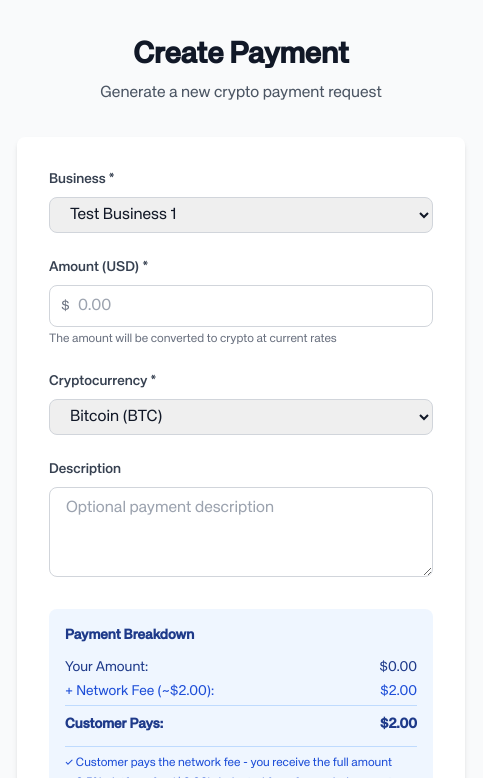
Test: CreatePaymentPage › Error Handling › should display error when payment creation fails
Expected: the dropdown labelled "Cryptocurrency *" is shown, [49, 399, 433, 435]
Type "100" into the number field labelled "Amount (USD) *".
click(241, 306); type("100")  # box [49, 285, 433, 327]
(page scrolled)
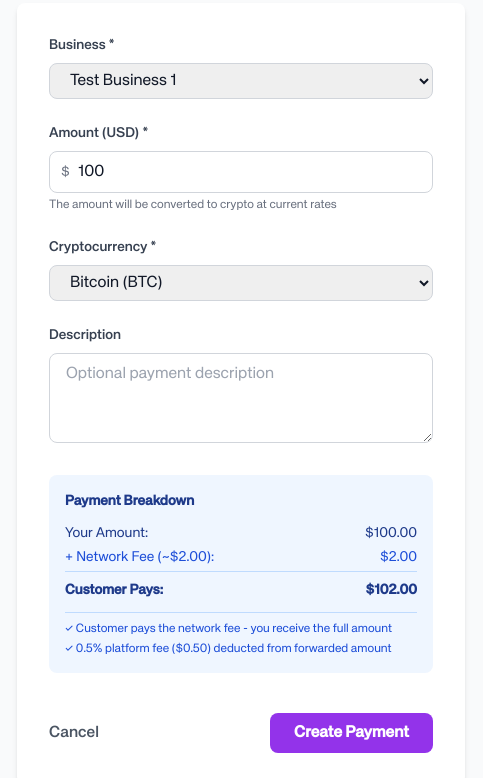
Submit the form labelled "Amount (USD)"
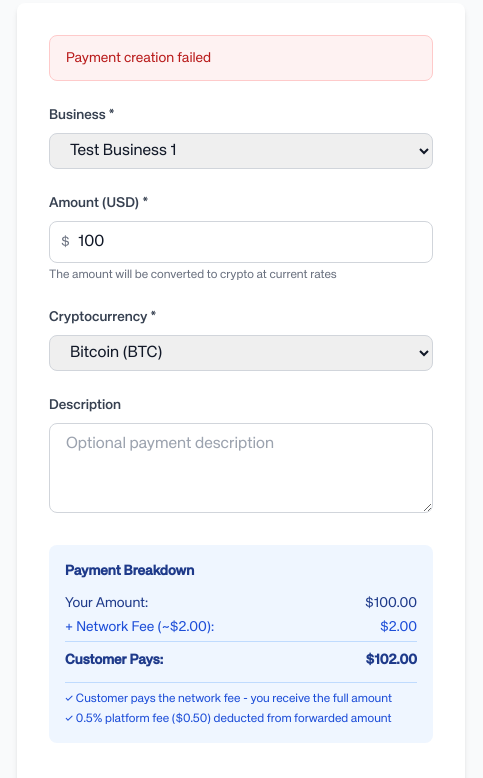
Expected: the text "Payment creation failed" is shown, [49, 35, 433, 81]
